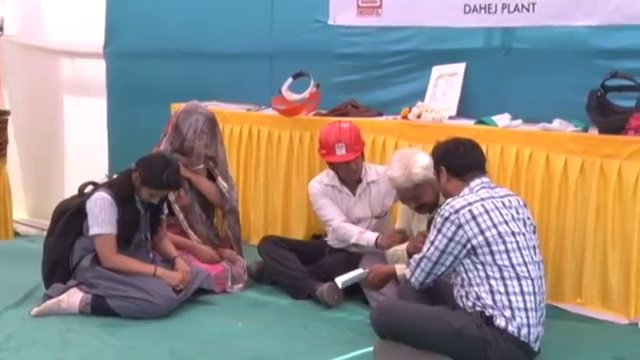helmet: (313, 115, 368, 163)
helmet_off: (430, 139, 493, 209), (162, 106, 225, 176), (121, 149, 185, 208), (387, 147, 433, 216)
helmet_on: (312, 115, 369, 179)
person: (354, 134, 547, 360), (27, 152, 211, 320), (252, 112, 402, 303), (152, 103, 251, 292), (360, 144, 447, 308)
